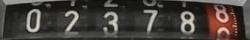digits: (102, 0, 122, 37), (63, 0, 80, 38), (214, 4, 232, 39), (180, 10, 196, 34), (26, 8, 42, 31), (143, 9, 158, 31)
